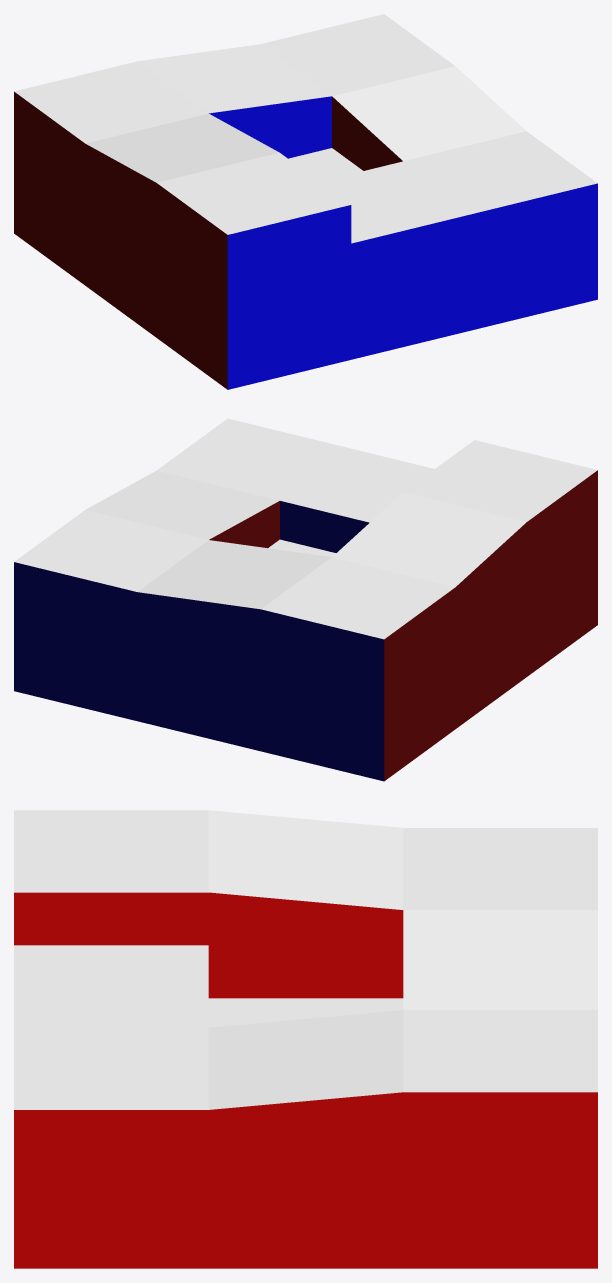
Rendered from labeled_CAD.glb.
3 views of the same model, one above another, from view 1: azimuth 30°, elevation 25°; view 2: azimuth 150°, elevation 25°; view 3: azimuth 270°, elevation 25° (orthographic). The views are drawn at different scales.
Size of the model in its own units: 3 by 1.2 by 3.
1 material, 1 textured.
